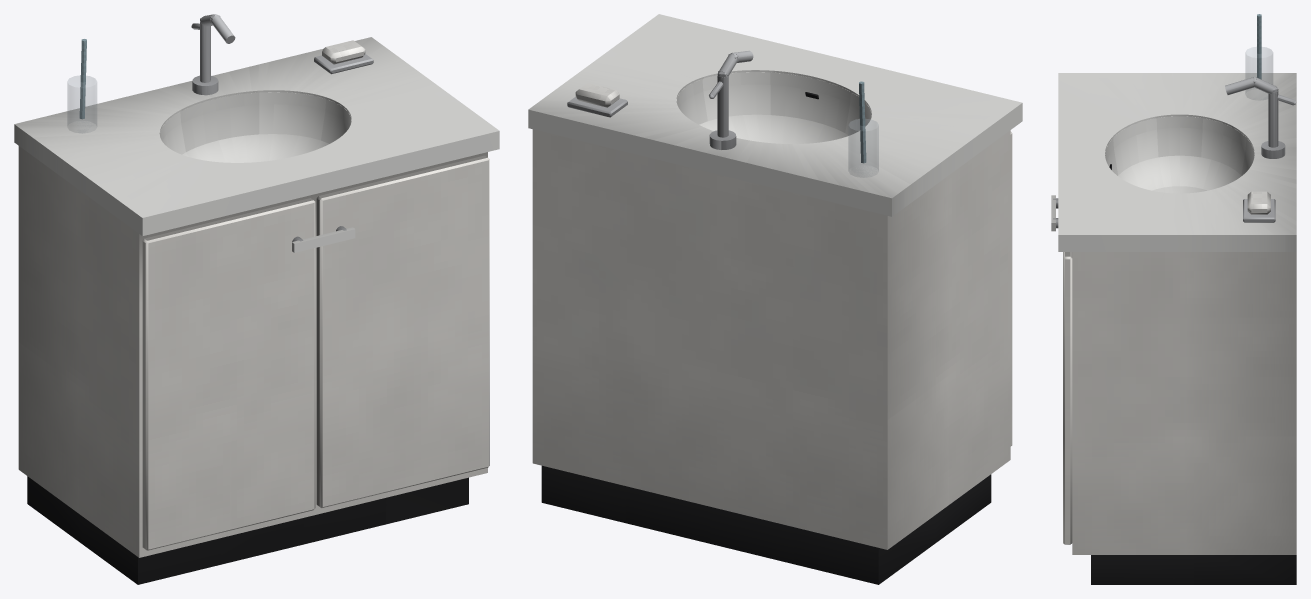
Rendered from vanity.glb.
3 views of the same model, side by side, from view 1: azimuth 30°, elevation 25°; view 2: azimuth 150°, elevation 25°; view 3: azimuth 270°, elevation 25° (orthographic). The views are drawn at different scales.
Parts seen in each view (by area): view 1: body; view 2: body; view 3: body.
Boxes of the visible parts, x1=… form: body: x1=14, y1=14, x2=499, y2=584; body: x1=528, y1=14, x2=1022, y2=584; body: x1=1051, y1=14, x2=1296, y2=584.
Size of what is drawn, in the model's own units: 0.82 by 1.03 by 0.525.
Materials: 8 (3 with a texture image).
